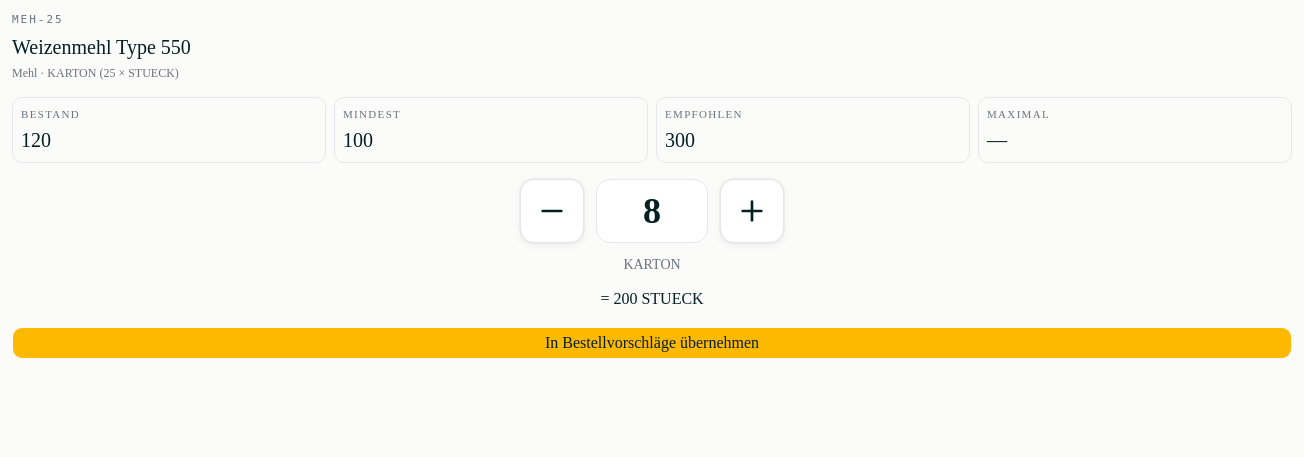
Test: ArticleOrderCard › zeigt den Kapazitätshinweis aus der Antwort
Click the button "In Bestellvorschläge übernehmen": (652, 343) [12,327,1292,359]
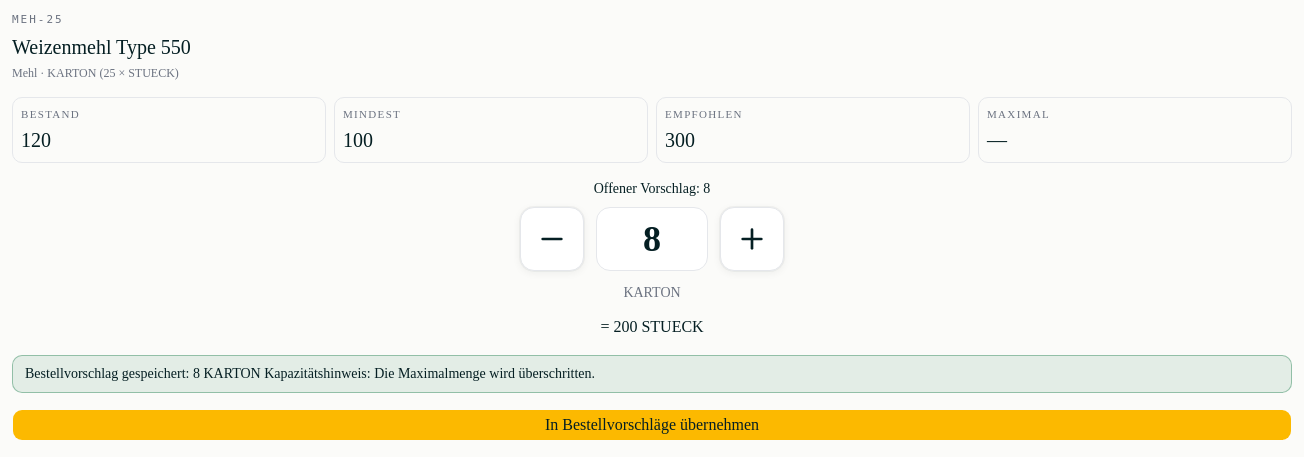
Expected: the text "Kapazitätshinweis" is shown, [25,366,595,381]
